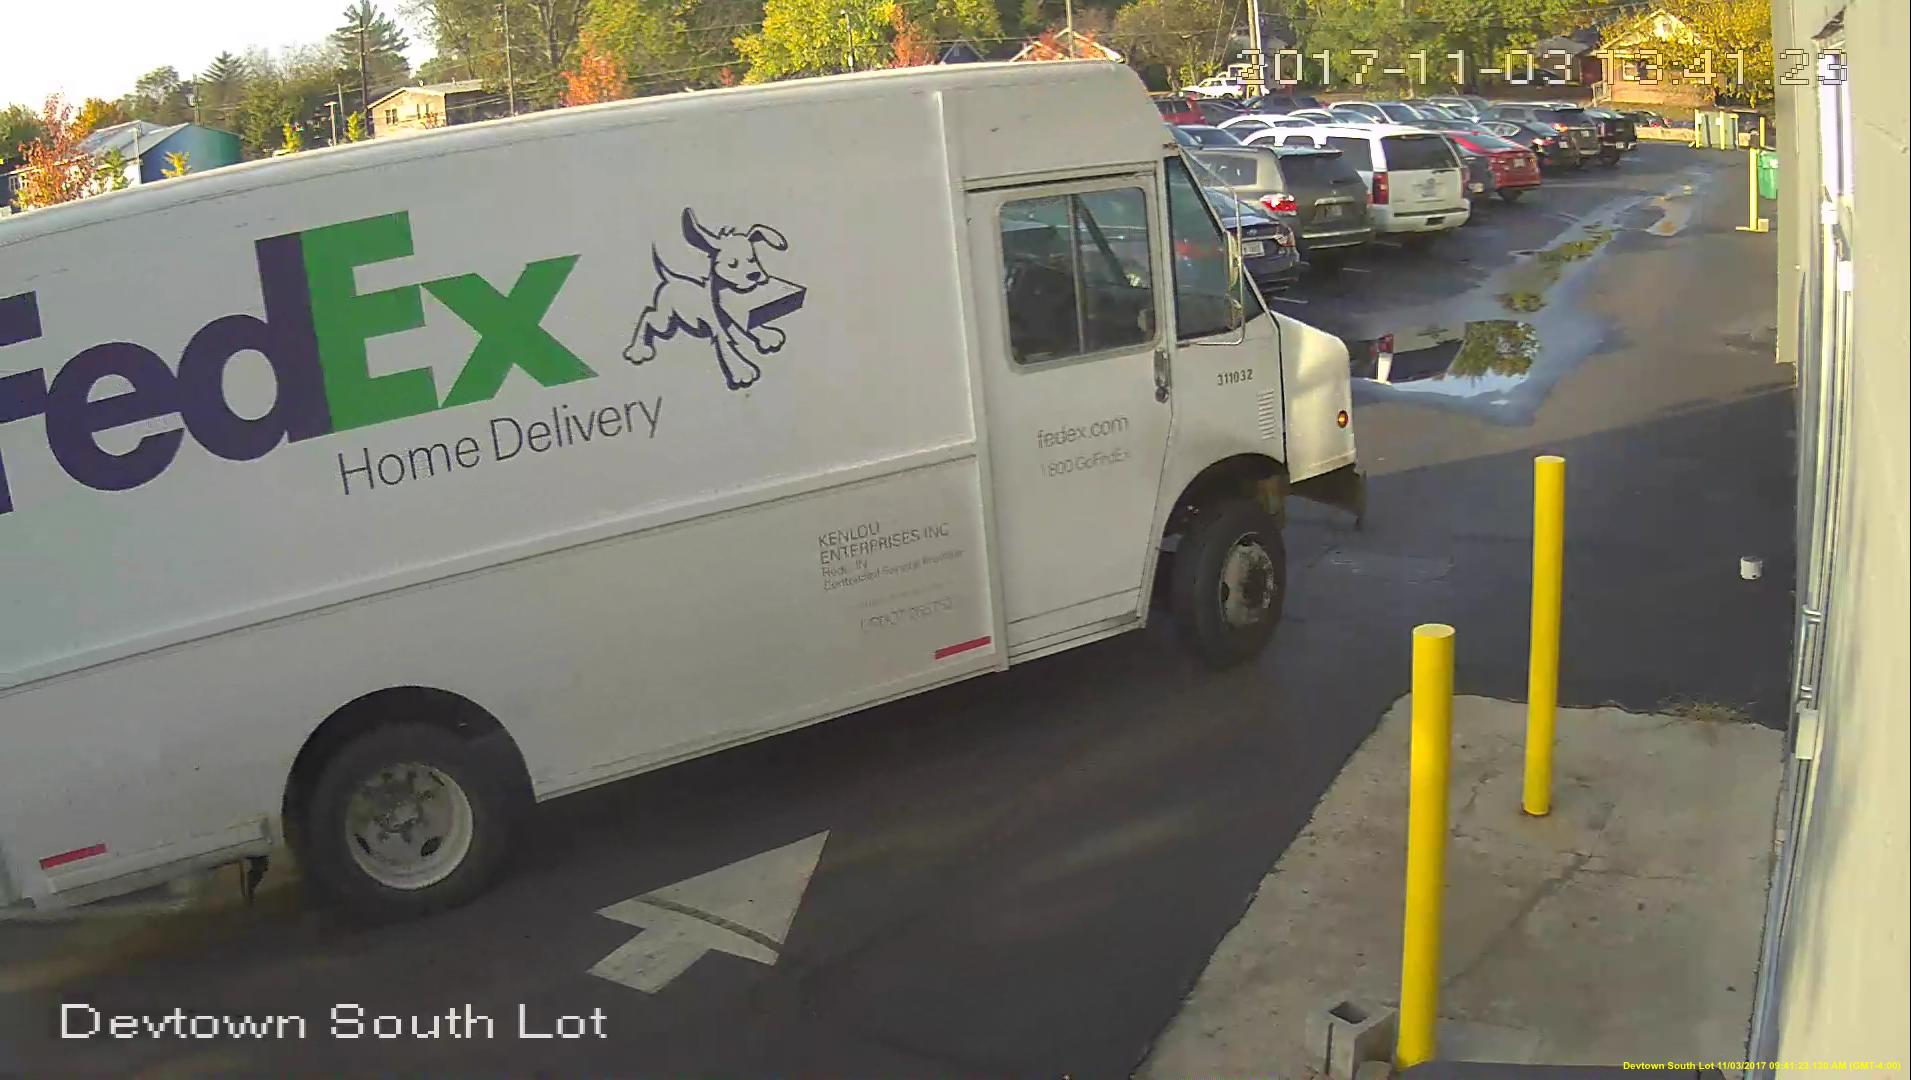fedex_truck: (3, 59, 1370, 932)
